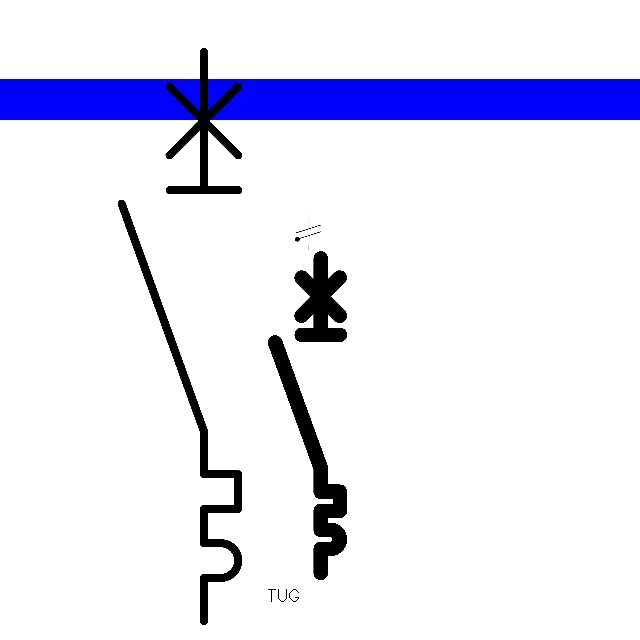interruptor_termomagnetico: (107, 37, 253, 636), (267, 250, 348, 581)
